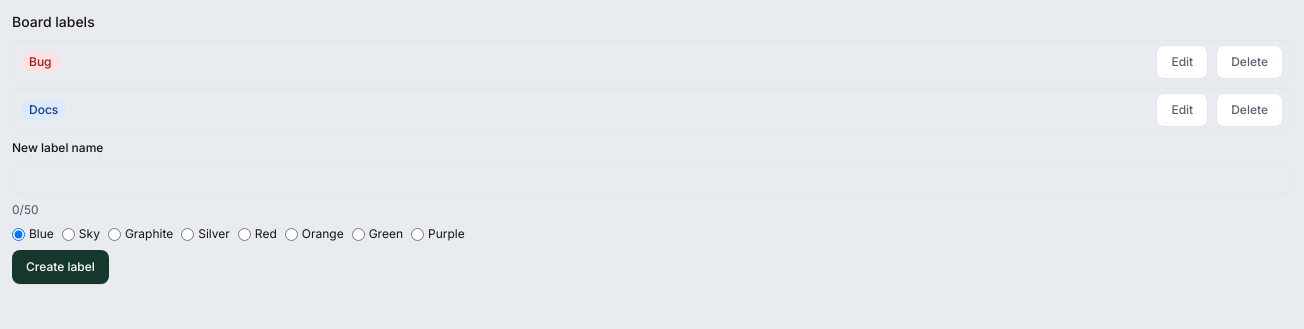
LabelManager › rejects a blank name without a request
Click the button "Create label" at (60, 267), box [12,250,109,284]
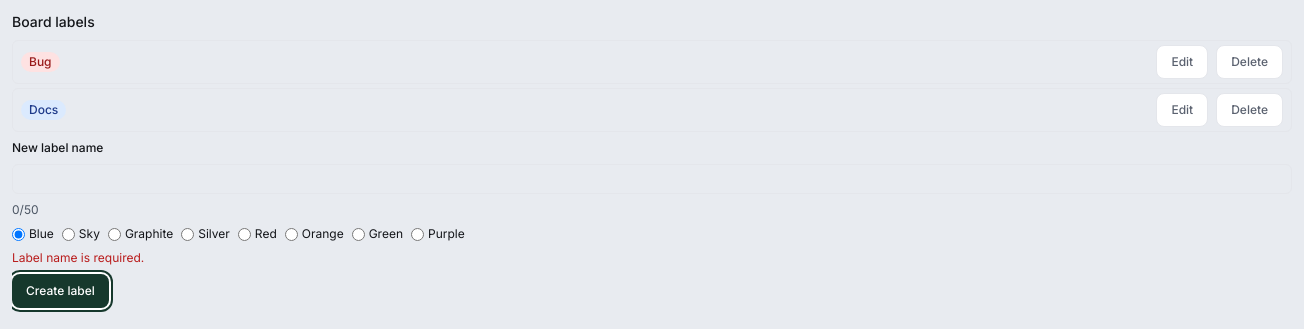
Now the message reads "Label name is required.", box [12,250,144,265]
